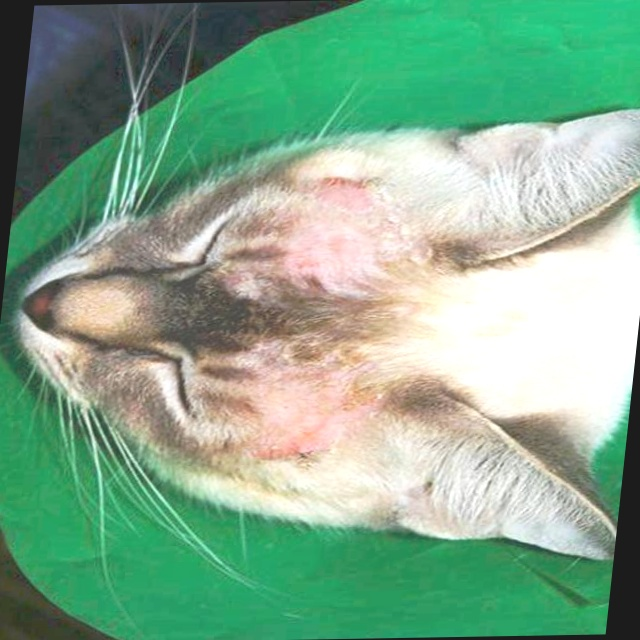ringworm: (280, 176, 395, 287), (243, 367, 351, 466)
